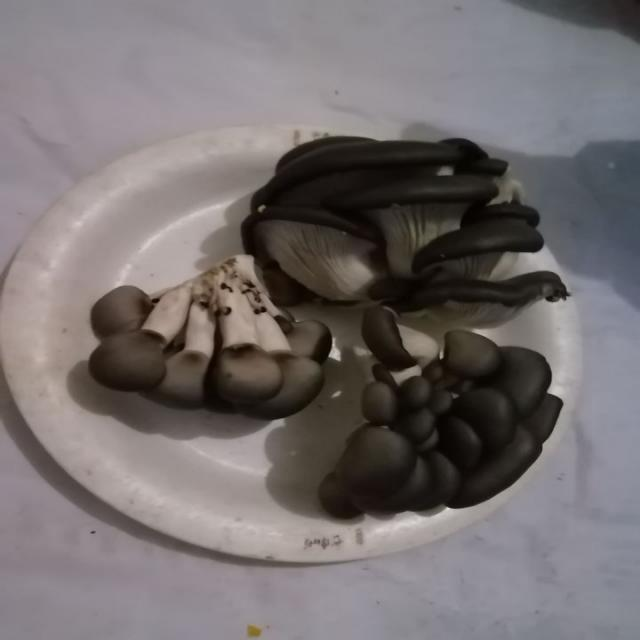Pleurotus ostreatus: (237, 135, 572, 331), (323, 302, 567, 522), (92, 260, 332, 415)
